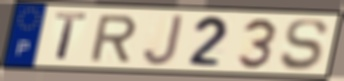2: (185, 14, 231, 69)
3: (234, 16, 278, 71)
J: (141, 13, 185, 67)
R: (87, 13, 139, 63)
S: (279, 17, 330, 72)
T: (54, 11, 90, 63)
